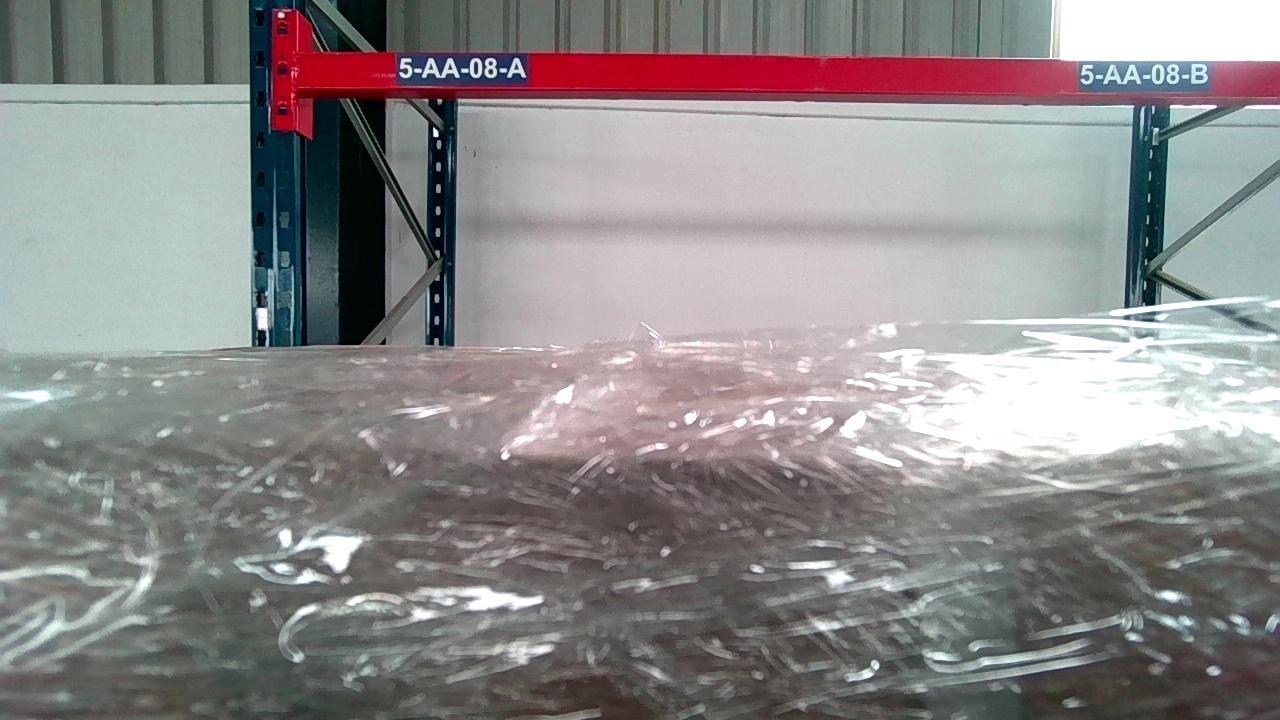h_rack: (308, 52, 1277, 98)
